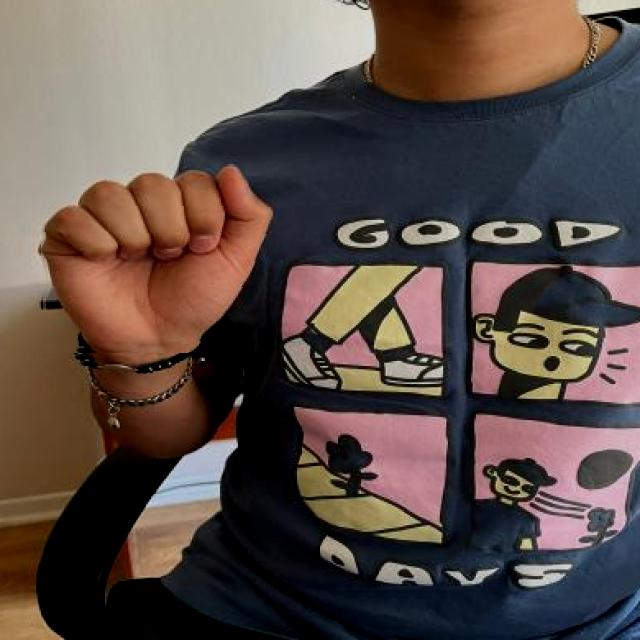A: (38, 164, 274, 353)
